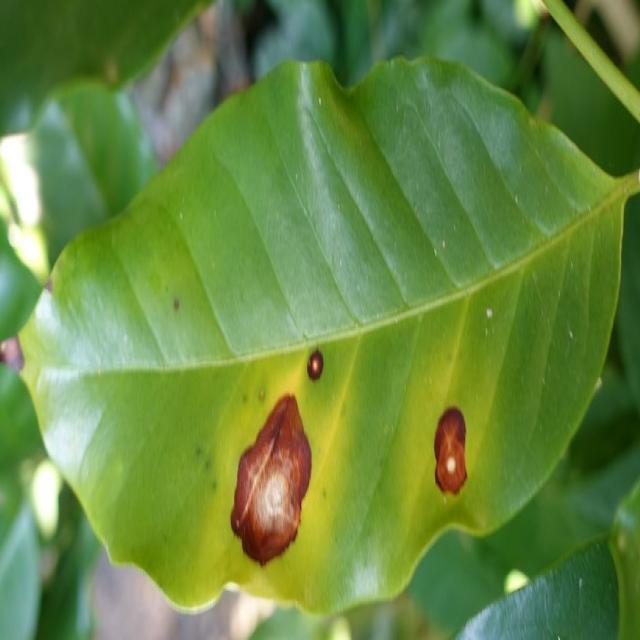Enfermedad-Mancha-de-hierro: (13, 56, 640, 618)
